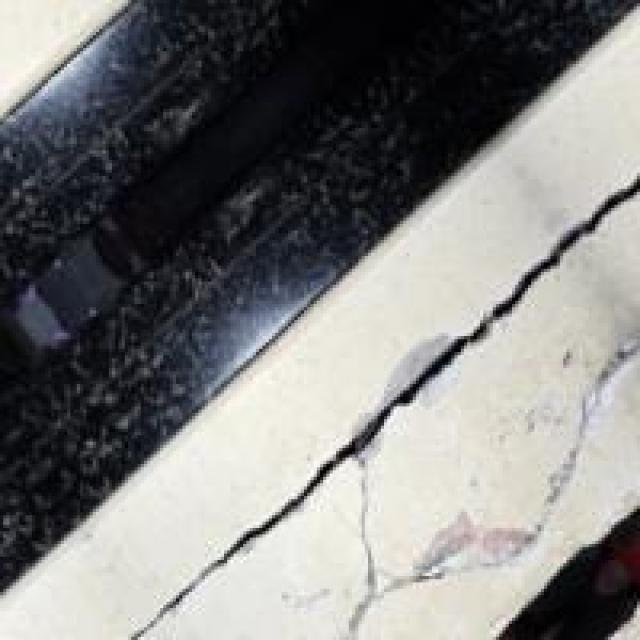Crack: (19, 211, 637, 637)
